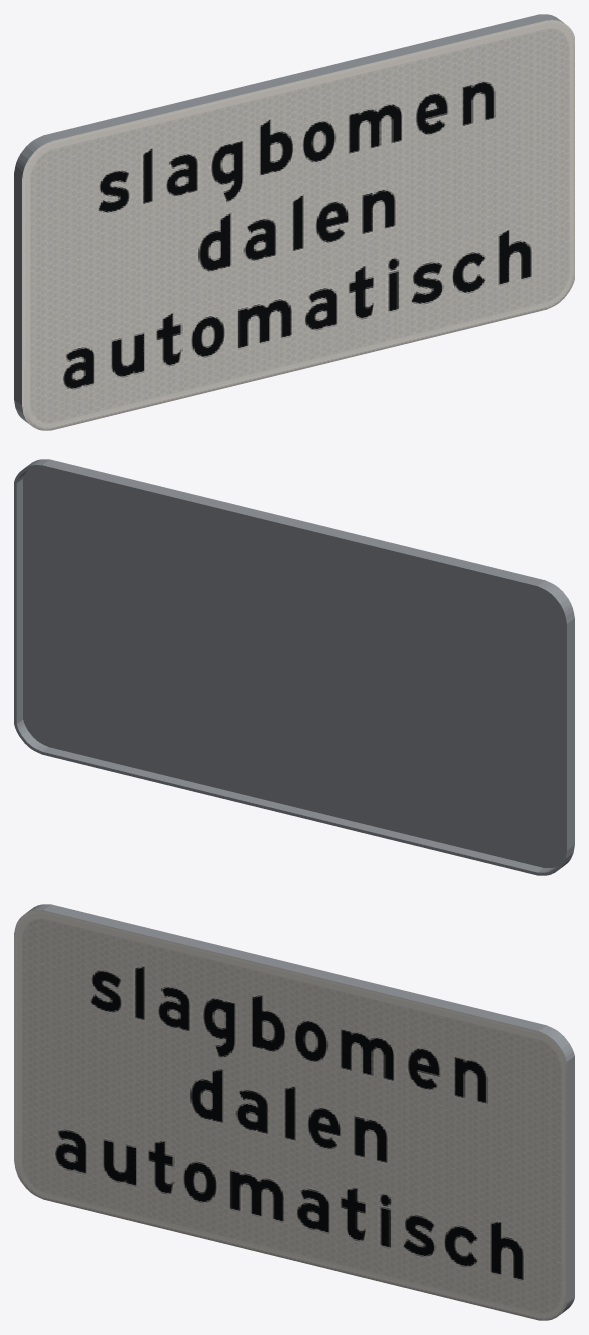
The picture shows the model from 3 angles, top to bottom: view 1: azimuth 30°, elevation 25°; view 2: azimuth 150°, elevation 25°; view 3: azimuth 330°, elevation 25°; orthographic projection.
Parts seen in each view (by area): view 1: cat_2355fec7853712eb; view 2: cat_2355fec7853712eb; view 3: cat_2355fec7853712eb.
Part boxes in pixels (box(x1,y1,x2,y2)): cat_2355fec7853712eb: box(14, 14, 574, 430); cat_2355fec7853712eb: box(14, 459, 574, 875); cat_2355fec7853712eb: box(14, 904, 574, 1320).
Bounding box in the file's own units: 0.6 × 0.015 × 0.3.
2 materials, 1 textured.
